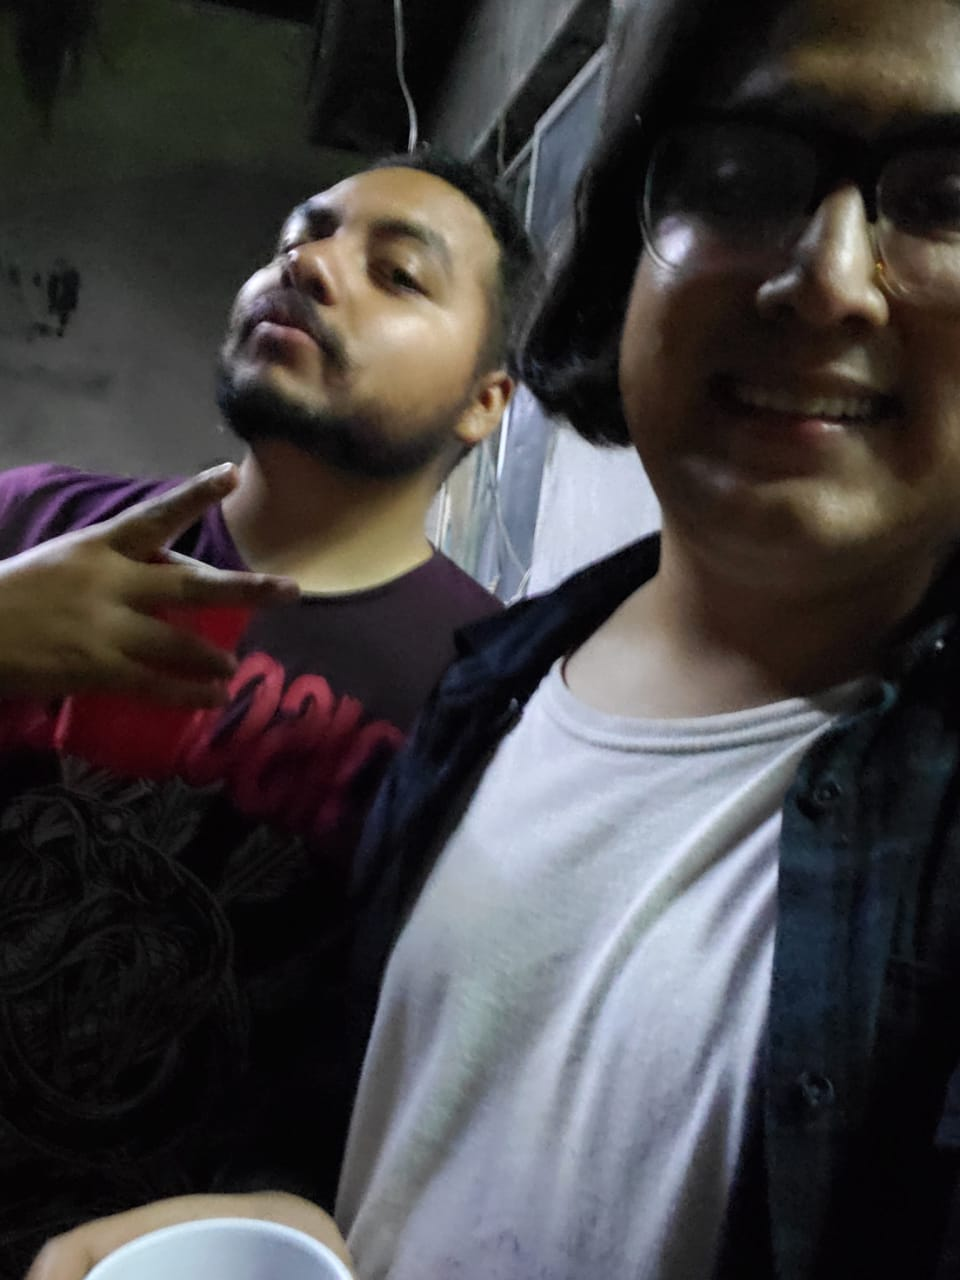Yoshi: (133, 79, 543, 566)
